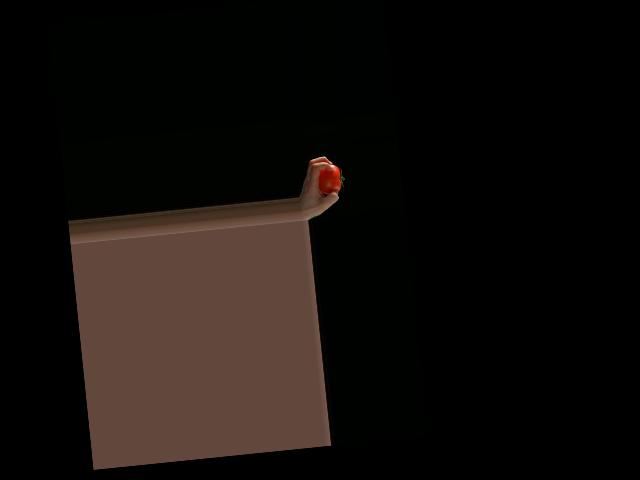tomato: (317, 163, 345, 195)
